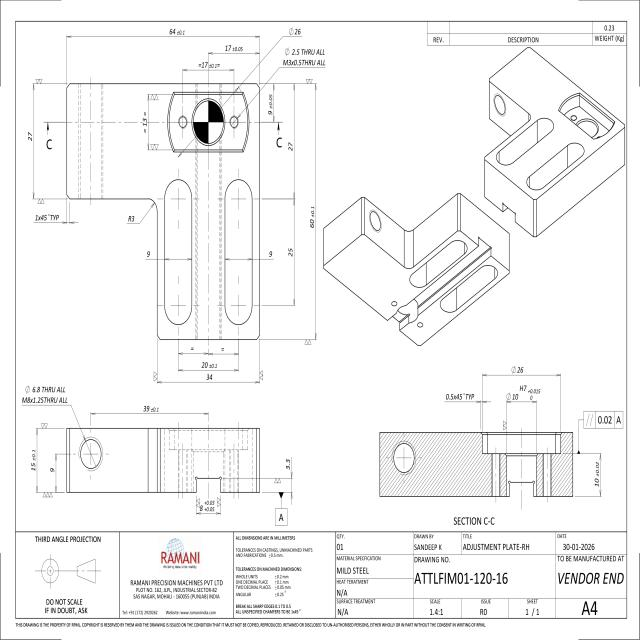dimension: (21, 383, 69, 404), (282, 46, 328, 67), (504, 384, 542, 401), (444, 390, 475, 401), (198, 497, 217, 514), (33, 212, 61, 222), (197, 60, 221, 70), (139, 109, 148, 135), (308, 202, 316, 230), (167, 26, 187, 36), (200, 360, 219, 370), (223, 44, 244, 53), (267, 90, 274, 116), (287, 25, 302, 37), (594, 458, 600, 487), (142, 404, 160, 413), (30, 447, 36, 474), (510, 364, 524, 374), (286, 140, 294, 154), (26, 130, 34, 144), (284, 456, 291, 471), (127, 213, 136, 224), (287, 246, 294, 258), (206, 372, 214, 382), (146, 248, 152, 259), (268, 249, 274, 257), (50, 466, 55, 474)
